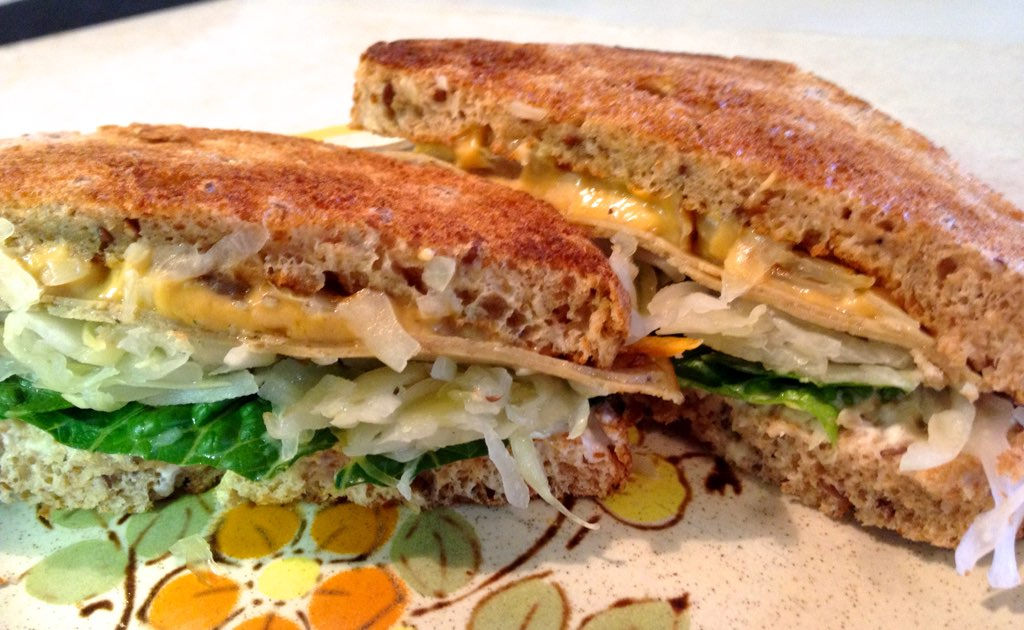slice of bread: (321, 38, 1016, 383), (1, 135, 652, 342)
